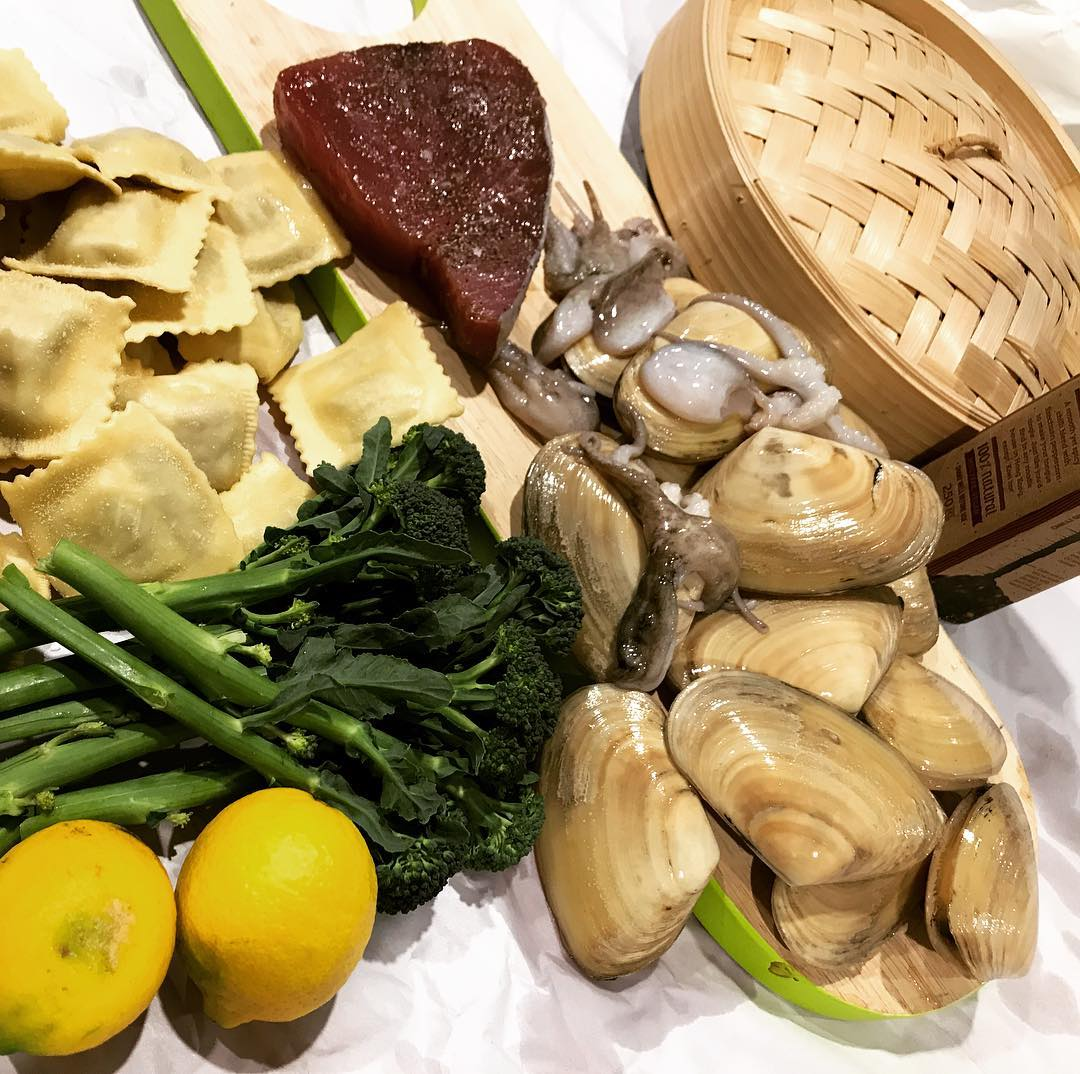tuatua: (659, 671, 945, 885), (535, 679, 721, 993), (677, 423, 946, 598), (667, 585, 908, 713), (924, 784, 1045, 988), (863, 643, 1017, 799), (764, 864, 919, 971)
